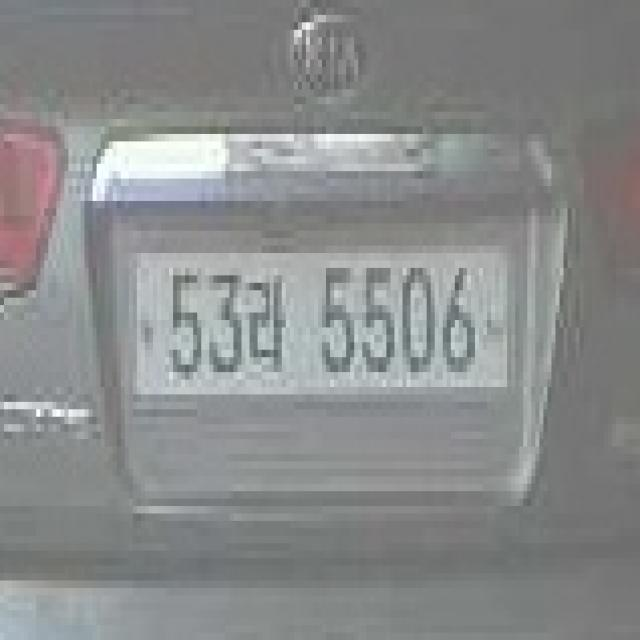0: (398, 253, 434, 380)
3: (210, 268, 246, 379)
5: (161, 253, 209, 387), (314, 260, 362, 387), (362, 253, 398, 387)
6: (435, 253, 487, 380)
la: (241, 260, 294, 364)
license_plate: (121, 230, 523, 432)
